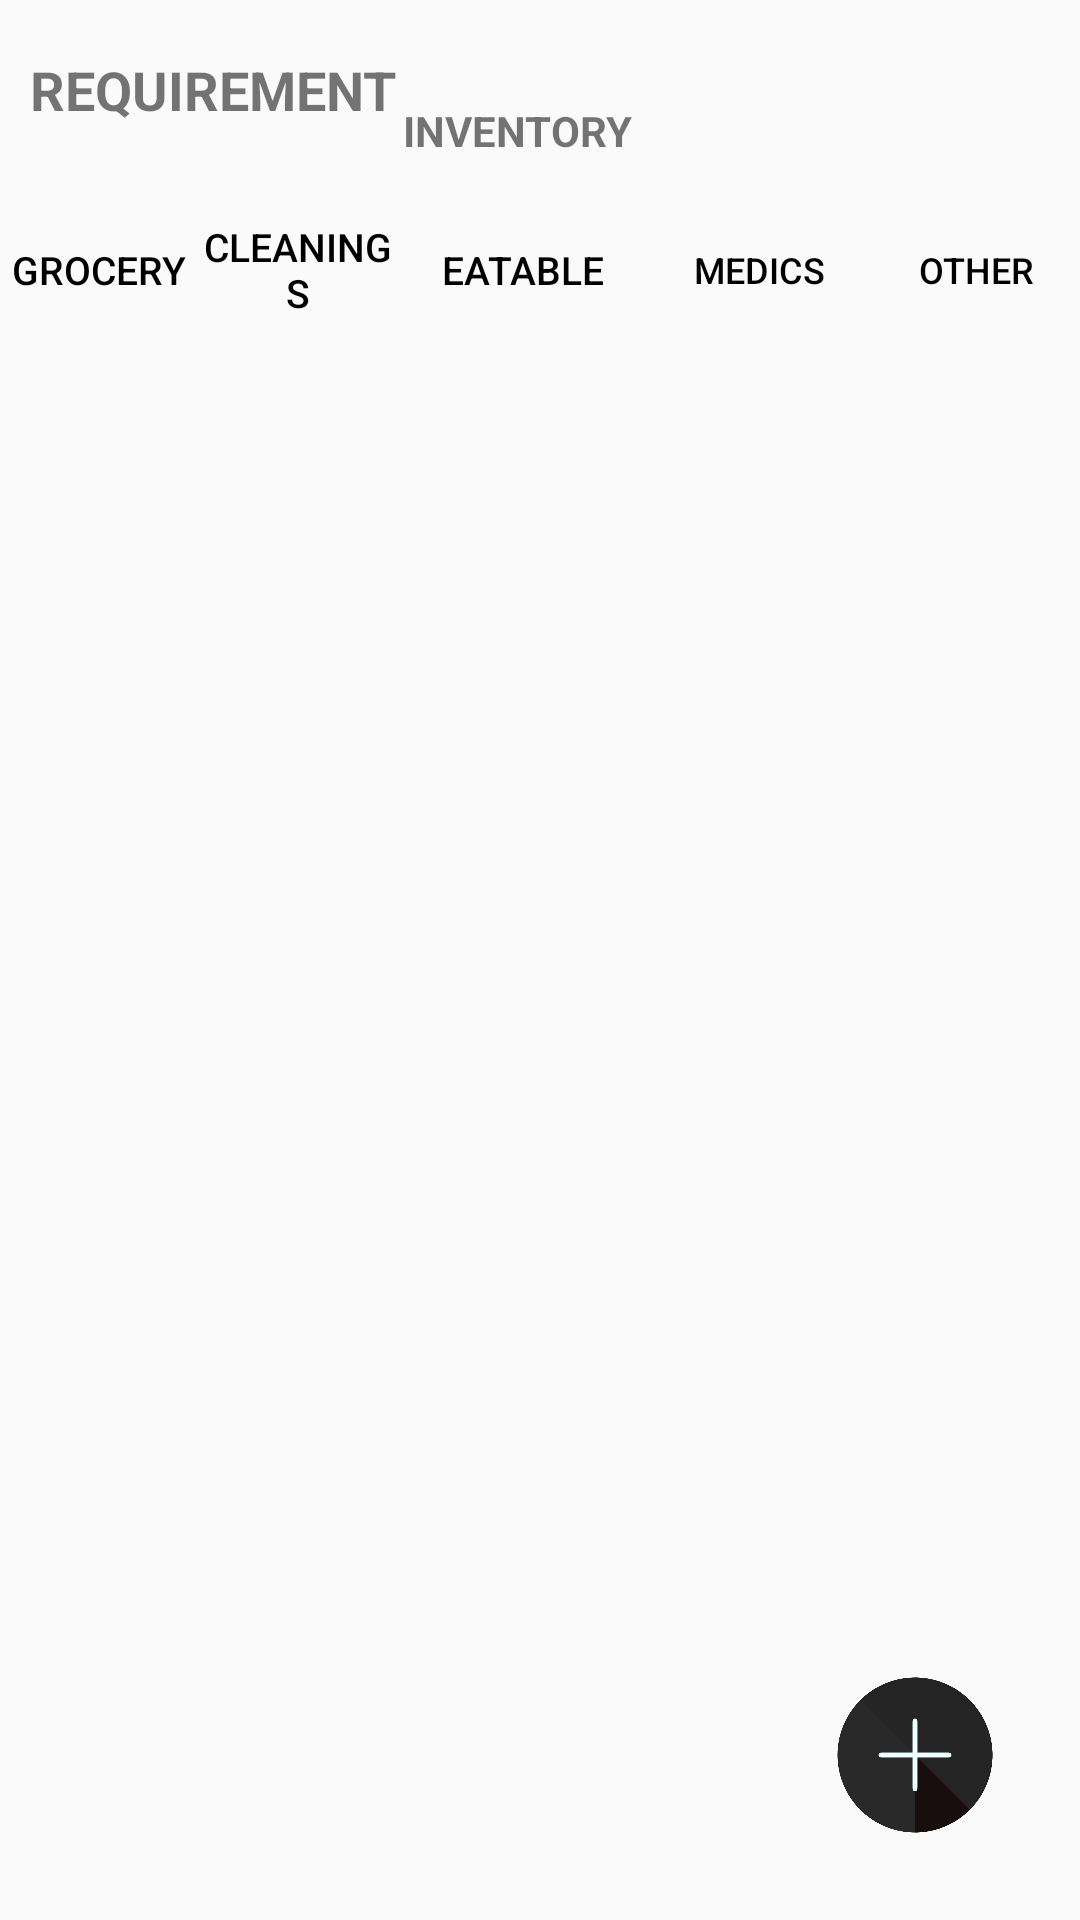

Named icons in this screenshot (1080 x 1920) and their centers, (x,y):
additem: (915,1755)
